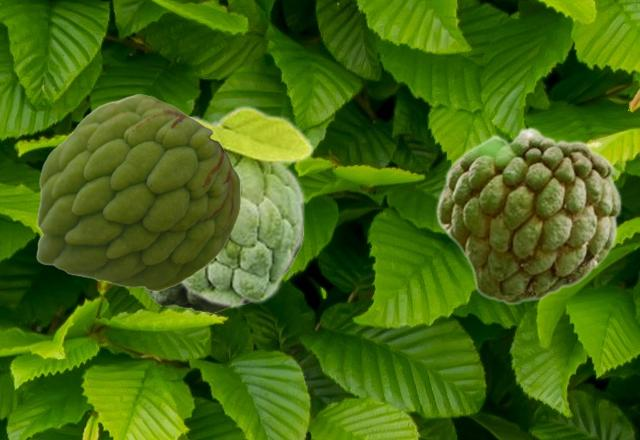atis: (36, 94, 239, 290), (434, 126, 621, 304), (142, 120, 302, 312), (179, 104, 314, 308)
